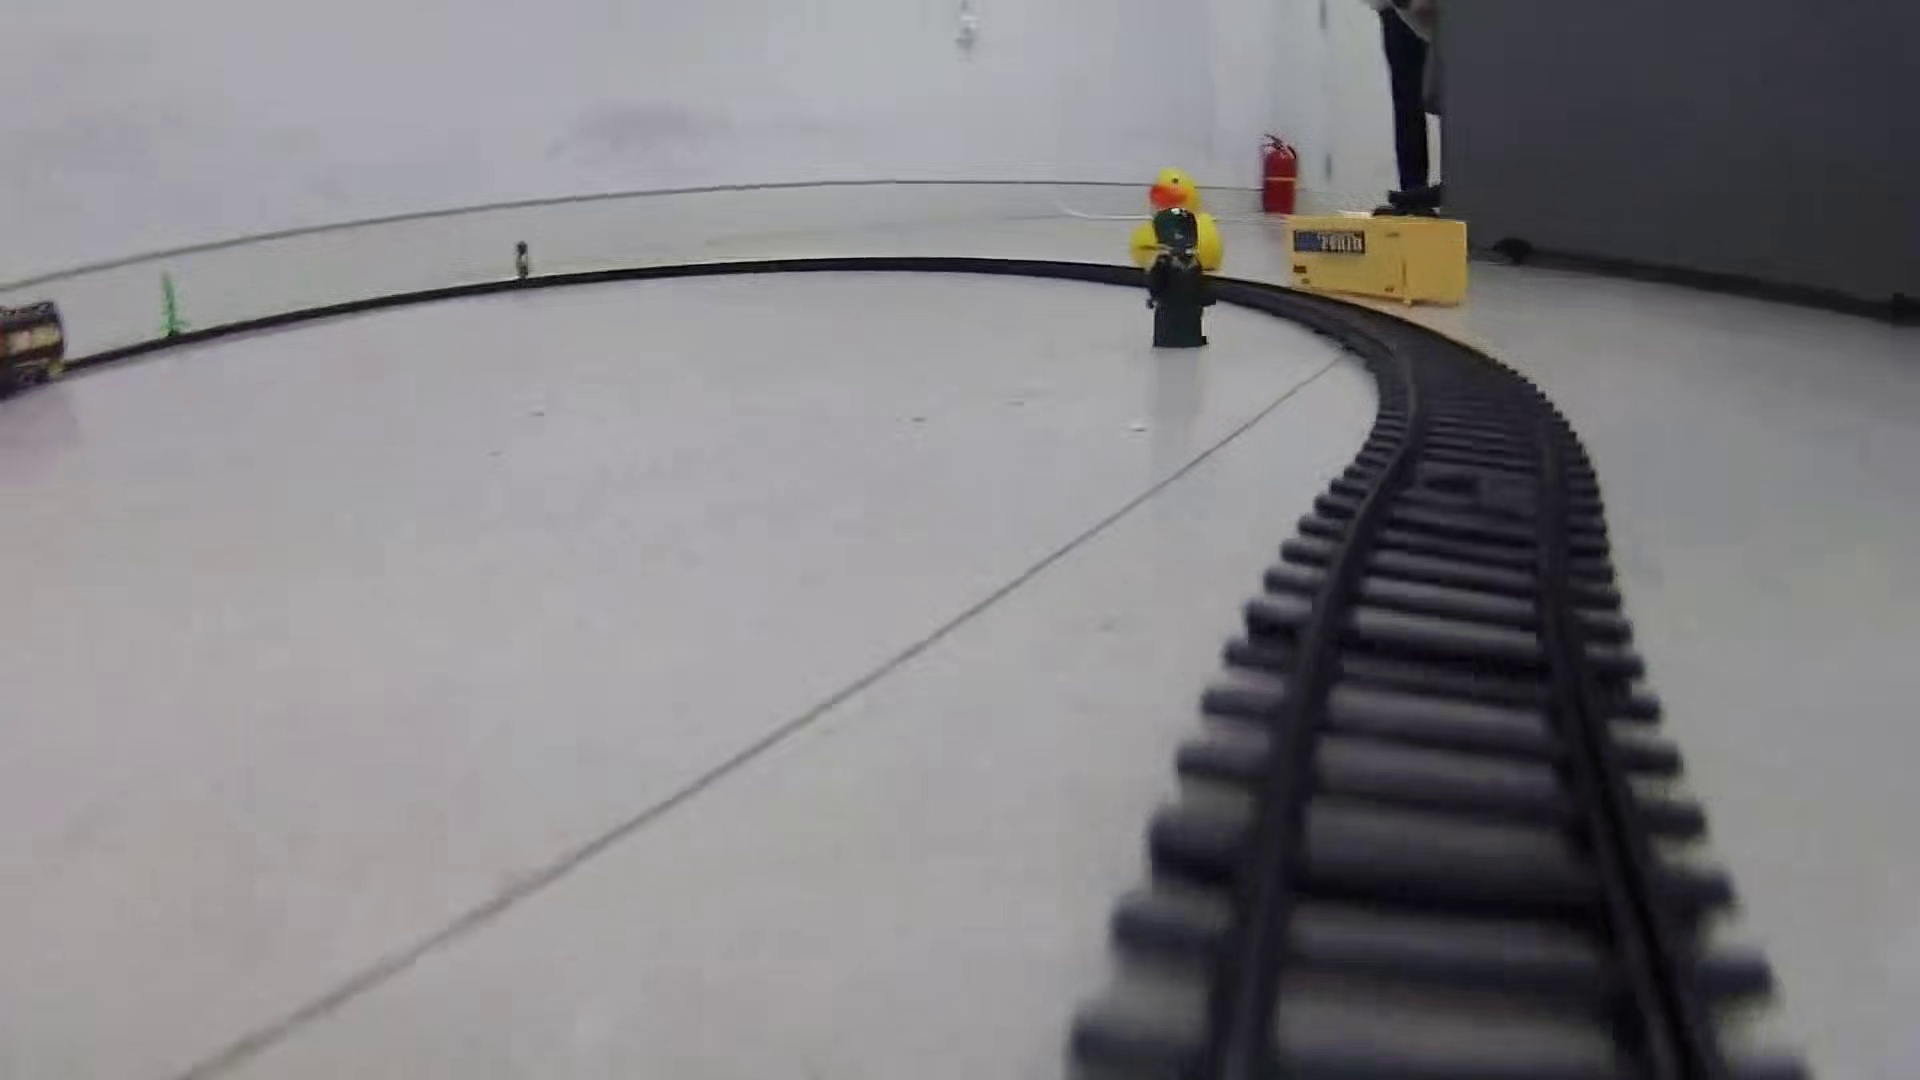people: (1142, 205, 1218, 355), (509, 238, 534, 288)
tree: (151, 267, 194, 348)
